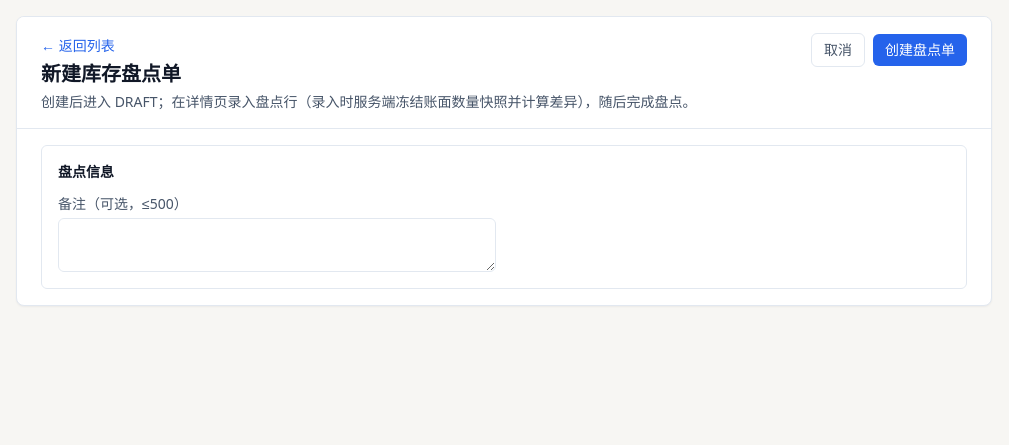
新建库存盘点单（UI-09：EntityFormWorkspace 表单统一，无页面级 window.confirm） › 保存失败 → 展示 ErrorPanel（真实错误，不伪装成空态/成功）
Type "x" into the text box labelled "备注（可选，≤500）" at (277, 245), box [58,218,496,272]
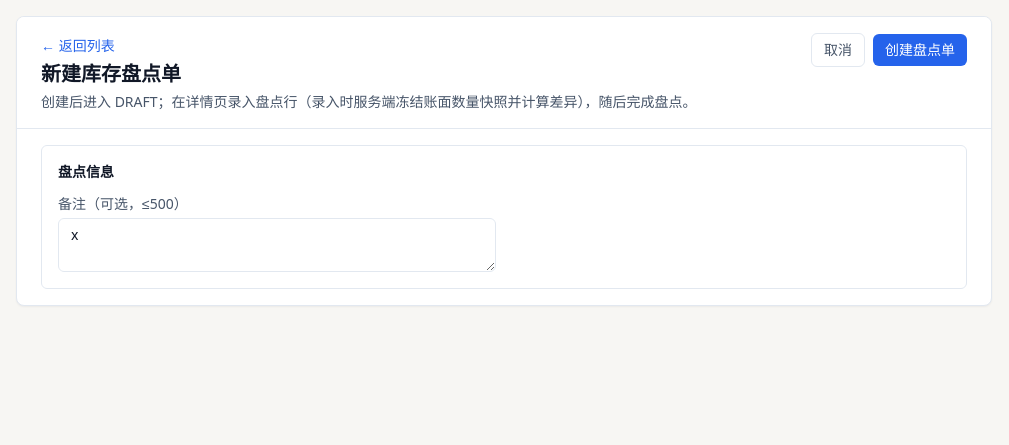
Click the button "创建盘点单" at (920, 50), box [873,34,967,66]
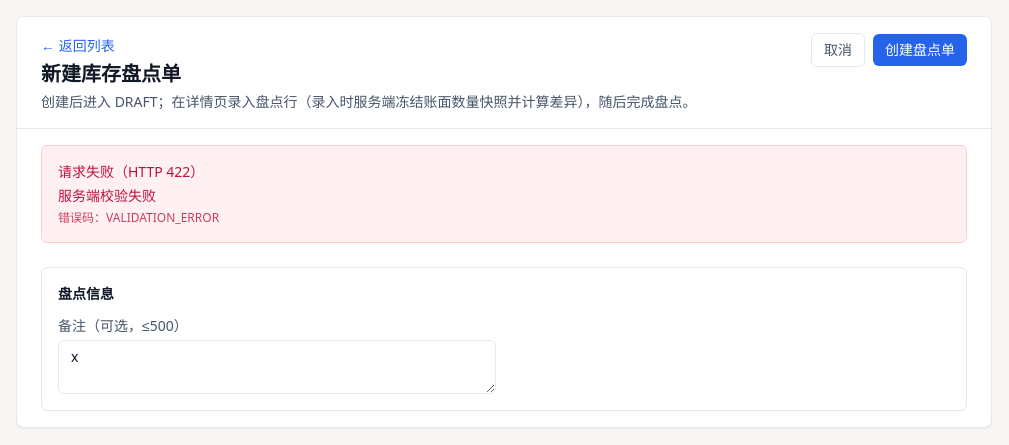
expect the text "请求失败（HTTP 422）" is shown: met, box [58,162,204,181]
expect the text "服务端校验失败" is shown: met, box [58,186,156,205]
expect the text "错误码：VALIDATION_ERROR" is shown: met, box [58,209,219,226]
